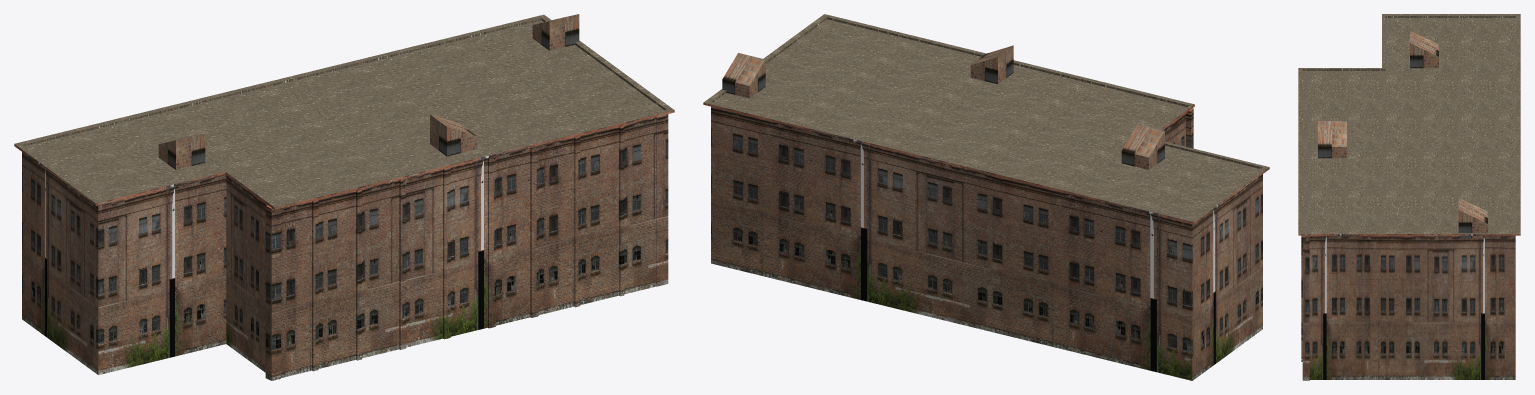
Rendered from background_factory.glb.
3 views of the same model, side by side, from view 1: azimuth 30°, elevation 25°; view 2: azimuth 150°, elevation 25°; view 3: azimuth 270°, elevation 25° (orthographic). The views are drawn at different scales.
Visible parts, largest first — view 1: Cube_0; view 2: Cube_0; view 3: Cube_0.
Boxes of the visible parts, x1,y1,x2,y2 form: Cube_0: (14,14,674,380); Cube_0: (703,14,1269,380); Cube_0: (1298,14,1520,380).
Bounding box in the file's own units: 11.24 × 4.1 × 4.8.
2 materials, 2 textured.
